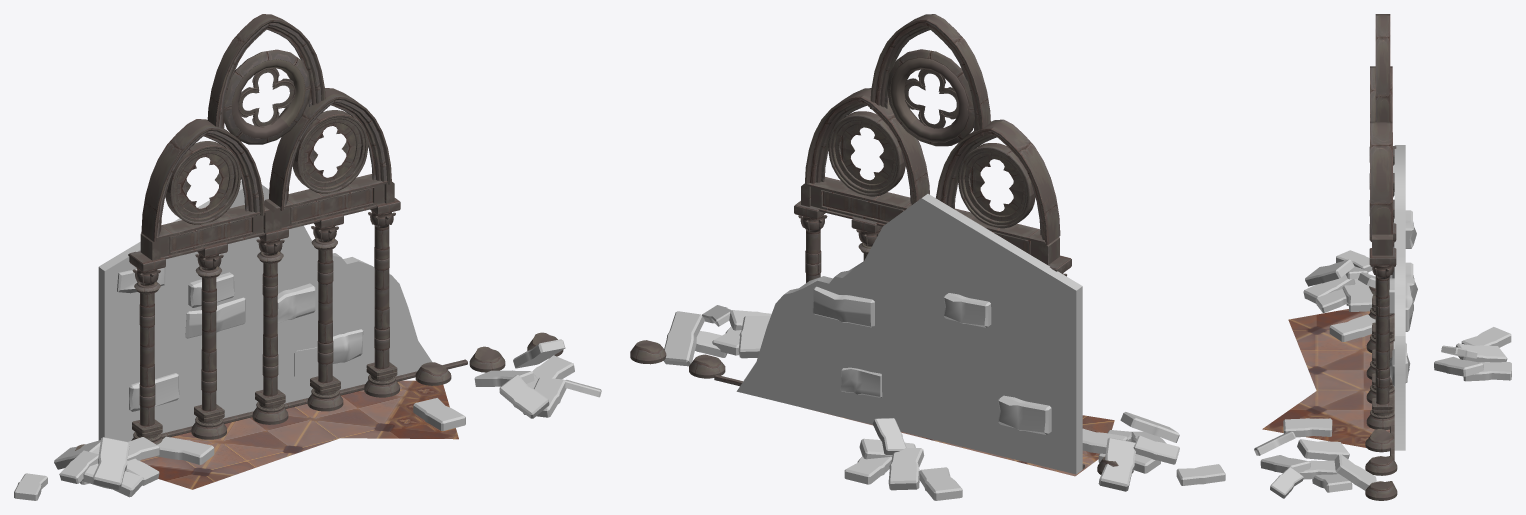
The model's file is ArchitectureSet5.fbx.
3 views of the same model, side by side, from view 1: azimuth 30°, elevation 25°; view 2: azimuth 150°, elevation 25°; view 3: azimuth 270°, elevation 25° (orthographic). The views are drawn at different scales.
Visible parts, largest first — view 1: pasted__pasted__polySurface267, pPlane5, pasted__pasted__polySurface268, pasted__pasted__pTorus76, pasted__pasted__polySurface269, pasted__pasted__pCube113, pasted__pasted__polySurface270, polySurface122, polySurface123, pasted__pasted__pCube114, polySurface116, polySurface118 (+24 smaller); view 2: pasted__pasted__polySurface267, pasted__pasted__polySurface268, pasted__pasted__pTorus76, pasted__pasted__polySurface270, pasted__pasted__polySurface269, polySurface122, polySurface123, pasted__pasted__pCube114, pCube331, pCube332, pCube317, pasted__pasted__pCube113 (+16 smaller); view 3: pPlane5, pasted__pasted__polySurface267, pasted__pasted__polySurface269, polySurface116, pasted__pasted__polySurface270, pCube311, pCube314, pCube309, pCube317, pCube337, pCube315, pCube325 (+23 smaller).
Boxes of the visible parts, left/top/right/bottom form: pasted__pasted__polySurface267: left=98, top=181, right=432, bottom=441; pPlane5: left=140, top=380, right=458, bottom=489; pasted__pasted__polySurface268: left=141, top=119, right=264, bottom=241; pasted__pasted__pTorus76: left=223, top=49, right=310, bottom=144; pasted__pasted__polySurface269: left=269, top=88, right=391, bottom=210; pasted__pasted__pCube113: left=140, top=205, right=273, bottom=260; pasted__pasted__polySurface270: left=207, top=14, right=325, bottom=128; polySurface122: left=165, top=141, right=241, bottom=224; polySurface123: left=292, top=110, right=368, bottom=193; pasted__pasted__pCube114: left=264, top=174, right=394, bottom=230; polySurface116: left=364, top=225, right=399, bottom=397; polySurface118: left=307, top=239, right=343, bottom=411; pasted__pasted__polySurface267: left=736, top=194, right=1082, bottom=474; pasted__pasted__polySurface268: left=936, top=119, right=1060, bottom=245; pasted__pasted__pTorus76: left=887, top=49, right=974, bottom=146; pasted__pasted__polySurface270: left=870, top=14, right=990, bottom=136; pasted__pasted__polySurface269: left=805, top=88, right=929, bottom=204; polySurface122: left=958, top=143, right=1035, bottom=228; polySurface123: left=828, top=111, right=905, bottom=196; pasted__pasted__pCube114: left=801, top=177, right=911, bottom=226; pCube331: left=812, top=286, right=874, bottom=327; pCube332: left=998, top=395, right=1051, bottom=434; pCube317: left=663, top=311, right=704, bottom=366; pasted__pasted__pCube113: left=954, top=208, right=1059, bottom=264; pPlane5: left=1262, top=309, right=1389, bottom=447; pasted__pasted__polySurface267: left=1394, top=145, right=1405, bottom=450; pasted__pasted__polySurface269: left=1370, top=121, right=1392, bottom=236; polySurface116: left=1366, top=277, right=1394, bottom=429; pasted__pasted__polySurface270: left=1375, top=14, right=1390, bottom=121; pCube311: left=1283, top=418, right=1332, bottom=437; pCube314: left=1297, top=439, right=1349, bottom=460; pCube309: left=1329, top=314, right=1375, bottom=341; pCube317: left=1334, top=454, right=1376, bottom=490; pCube337: left=1434, top=356, right=1483, bottom=376; pCube315: left=1305, top=259, right=1354, bottom=286; pCube325: left=1342, top=284, right=1373, bottom=311.
Bounding box in the file's own units: 1010 × 702 × 449.
